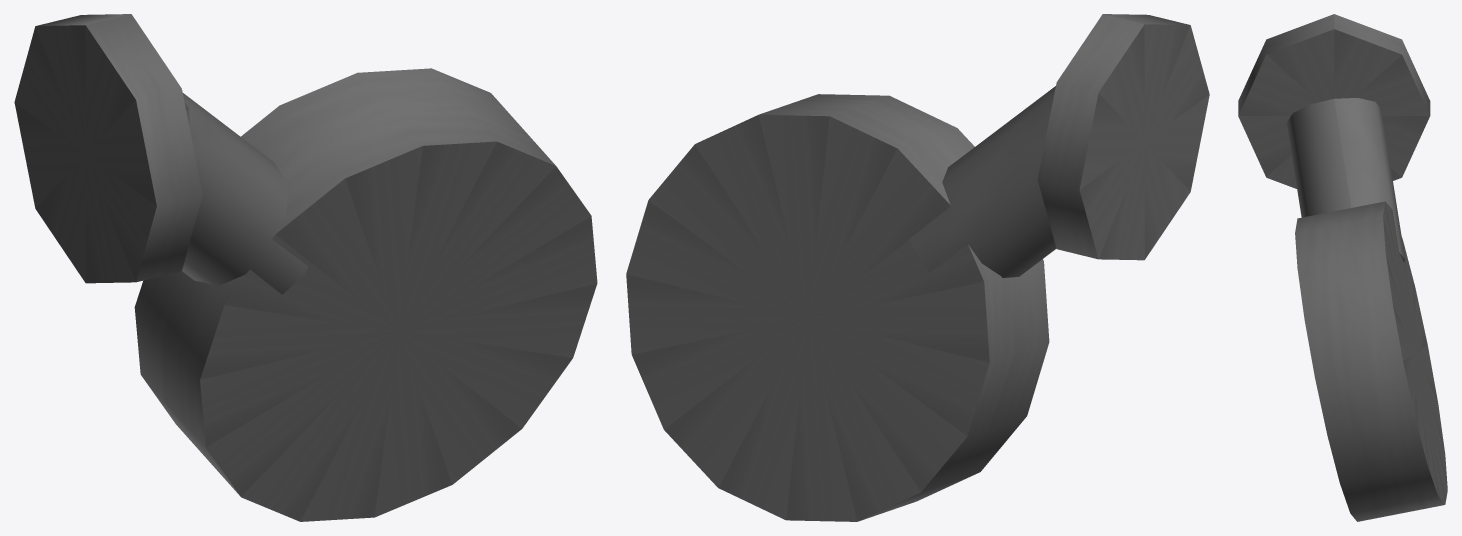
File: mastarmcurve_8x2_c6_west.obj
3 views of the same model, side by side, from view 1: azimuth 30°, elevation 25°; view 2: azimuth 150°, elevation 25°; view 3: azimuth 270°, elevation 25° (orthographic). The views are drawn at different scales.
Parts seen in each view (by area): view 1: mastarm_8x2_c6_west; view 2: mastarm_8x2_c6_west; view 3: mastarm_8x2_c6_west.
Part boxes in pixels (x1,y1,x2,y2): mastarm_8x2_c6_west: (14,14,597,521); mastarm_8x2_c6_west: (626,14,1209,521); mastarm_8x2_c6_west: (1238,14,1447,521).
Bounding box in the file's own units: 0.8217 × 0.9008 × 0.4366.
